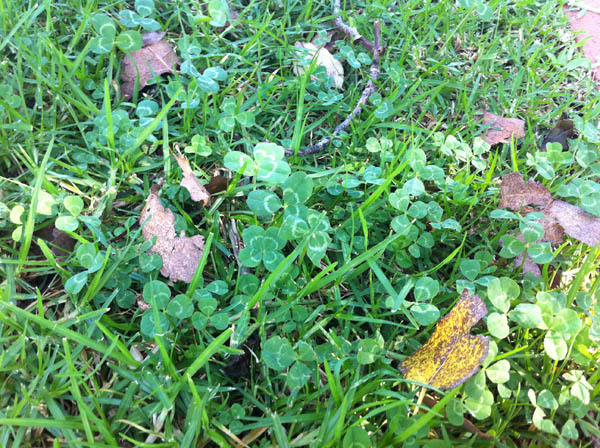4-clover: (239, 225, 288, 271)
